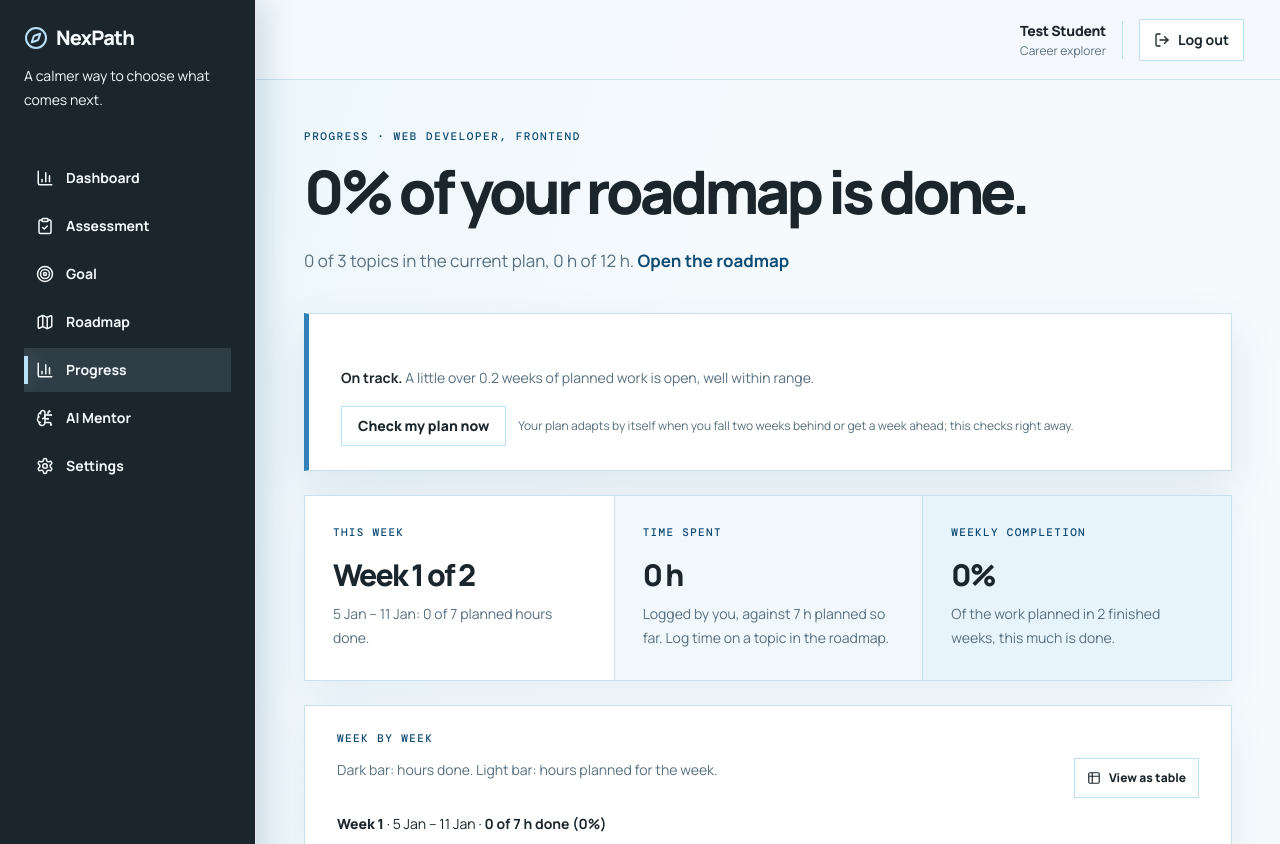
Scenario: progress page and replanning › the check-now button says what happened and why, and refreshes
This screenshot has width=1280, height=844.
Click the button "Check my plan now": click(424, 426) [341, 406, 506, 446]
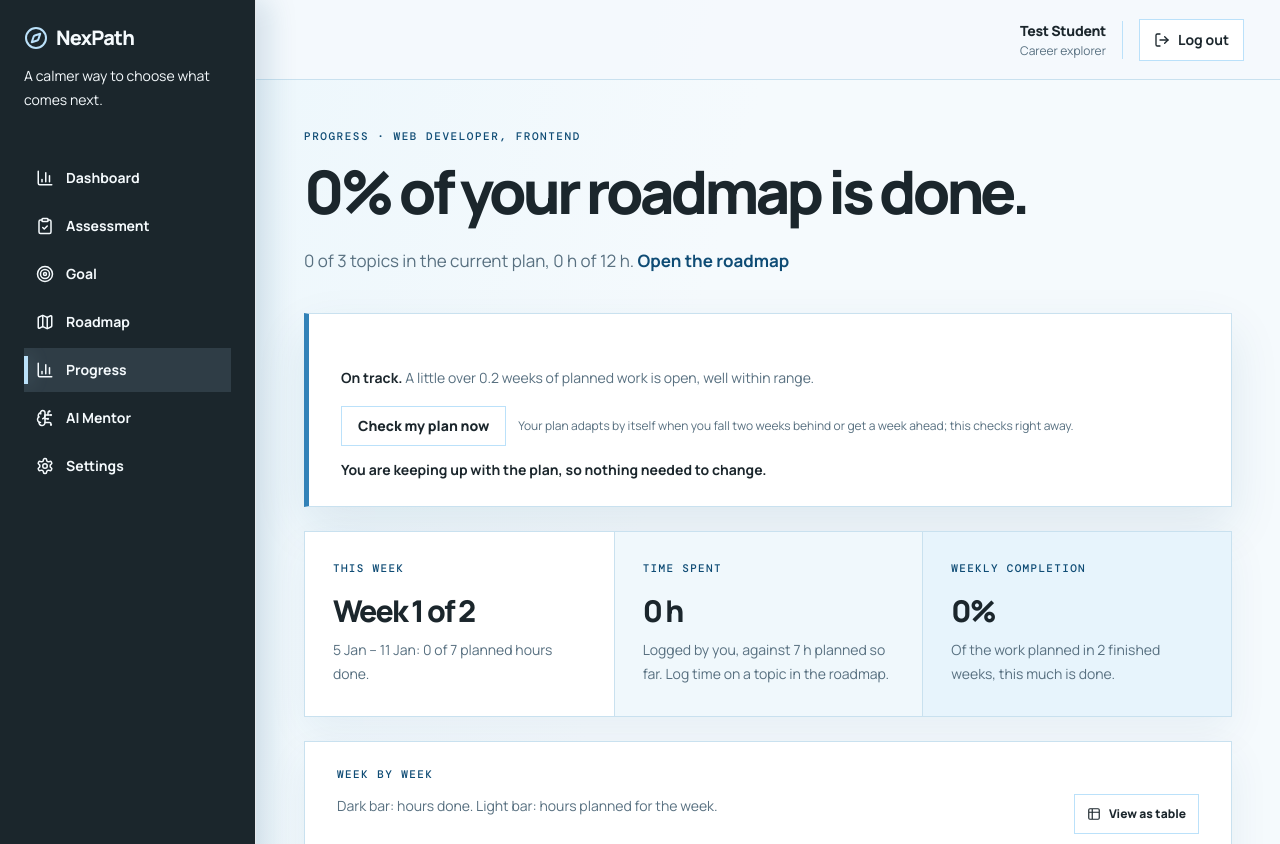
Expected: the text "You are keeping up with the plan, so nothing needed to change." is shown, [341, 460, 767, 478]
